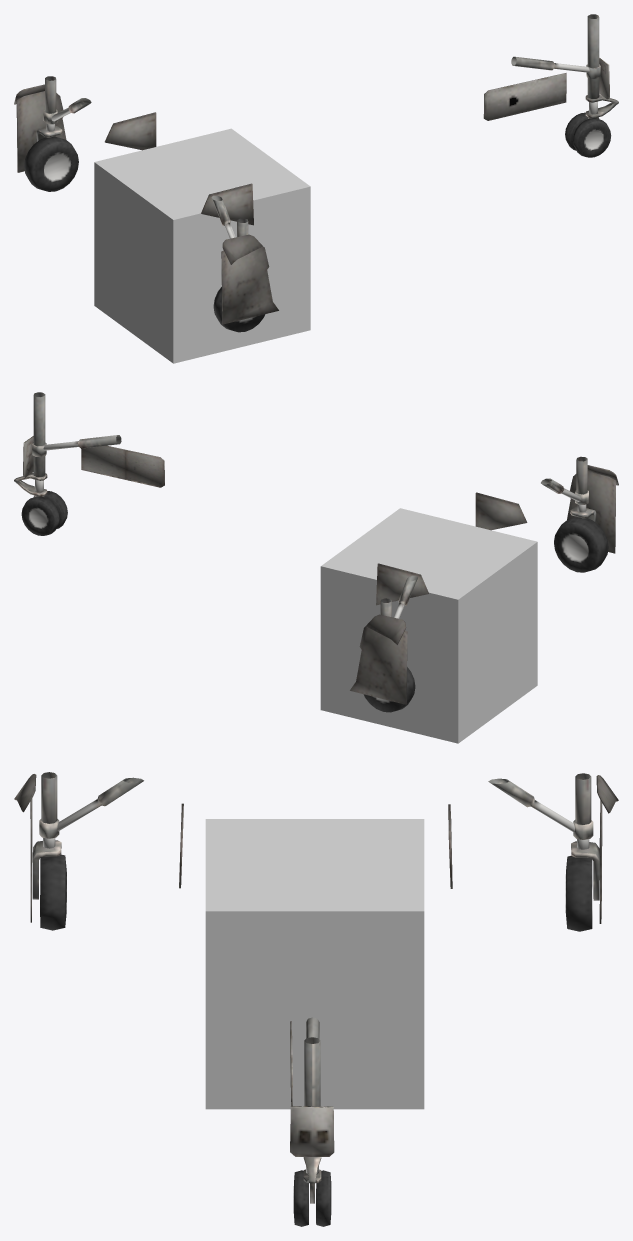
File: F4G_train.fbx
The picture shows the model from 3 angles, top to bottom: view 1: azimuth 30°, elevation 25°; view 2: azimuth 150°, elevation 25°; view 3: azimuth 270°, elevation 25°; orthographic projection. The views are drawn at different scales.
Parts seen in each view (by area): view 1: Cube, train; view 2: Cube, train; view 3: Cube, train.
Part boxes in pixels (box(x1,y1,x2,y2)): Cube: box(94, 128, 310, 363); train: box(14, 14, 618, 332); Cube: box(320, 508, 537, 743); train: box(14, 392, 618, 712); Cube: box(205, 819, 424, 1109); train: box(14, 772, 618, 1226).
Size of the model in its own units: 7.26 by 5.54 by 2.88.
